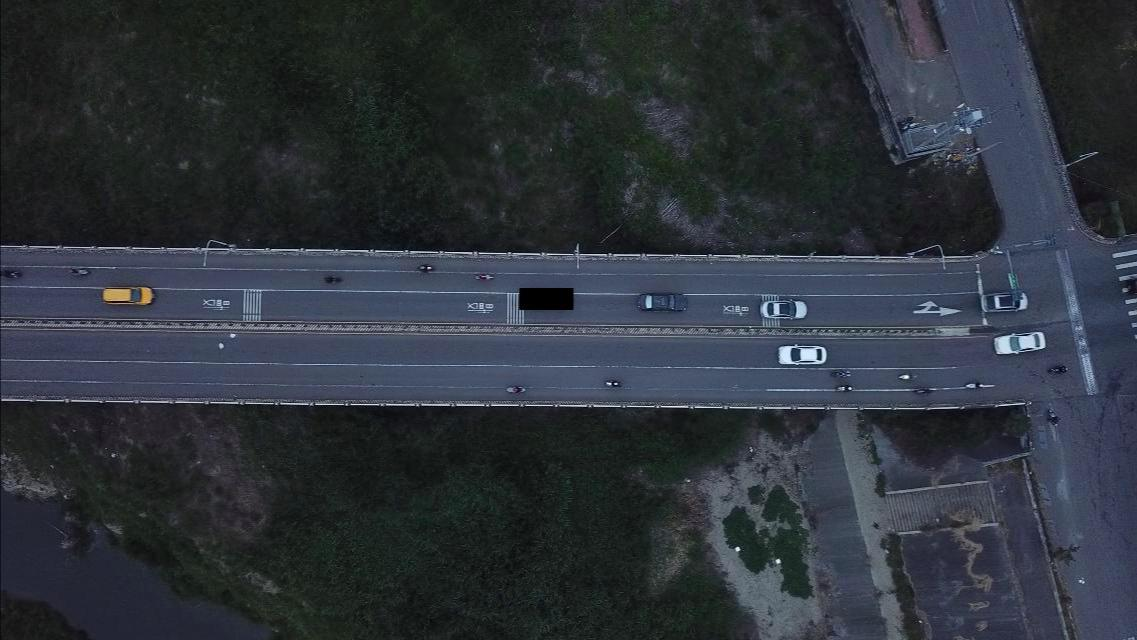vehicle: (995, 329, 1046, 356), (636, 290, 689, 312), (102, 285, 154, 307), (980, 290, 1027, 314), (760, 298, 807, 321), (778, 344, 827, 366)
